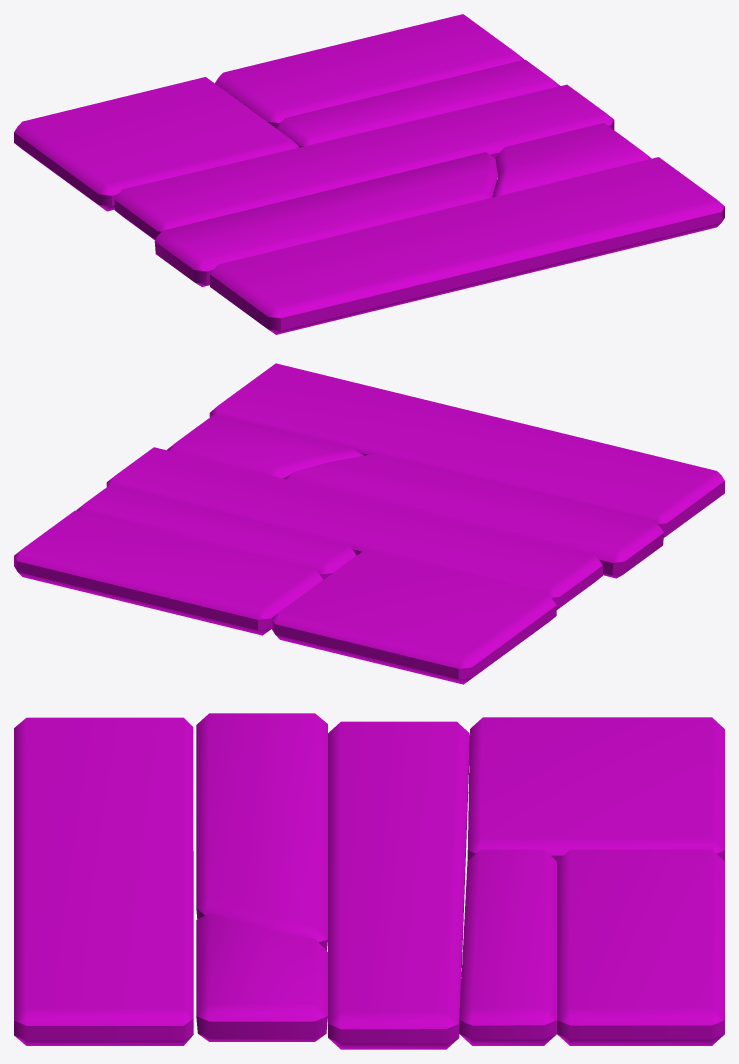
The model's file is Cty_Bld_Raft01_Mod.fbx.
3 views of the same model, one above another, from view 1: azimuth 30°, elevation 25°; view 2: azimuth 150°, elevation 25°; view 3: azimuth 270°, elevation 25° (orthographic). The views are drawn at different scales.
Visible parts, largest first — view 1: Cty_Bld_Raft01_Mod; view 2: Cty_Bld_Raft01_Mod; view 3: Cty_Bld_Raft01_Mod.
Part boxes in pixels (box(x1,y1,x2,y2)): Cty_Bld_Raft01_Mod: box(14, 14, 724, 334); Cty_Bld_Raft01_Mod: box(14, 363, 724, 684); Cty_Bld_Raft01_Mod: box(14, 713, 724, 1049).
Bounding box in the file's own units: 1022 × 58.12 × 992.
